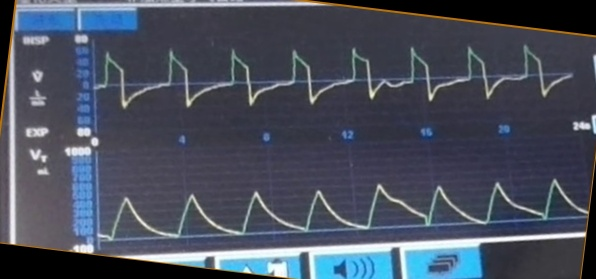Premature_cycling Flow: (96, 38, 573, 116)
Premature_cycling Volume: (101, 174, 585, 239)
